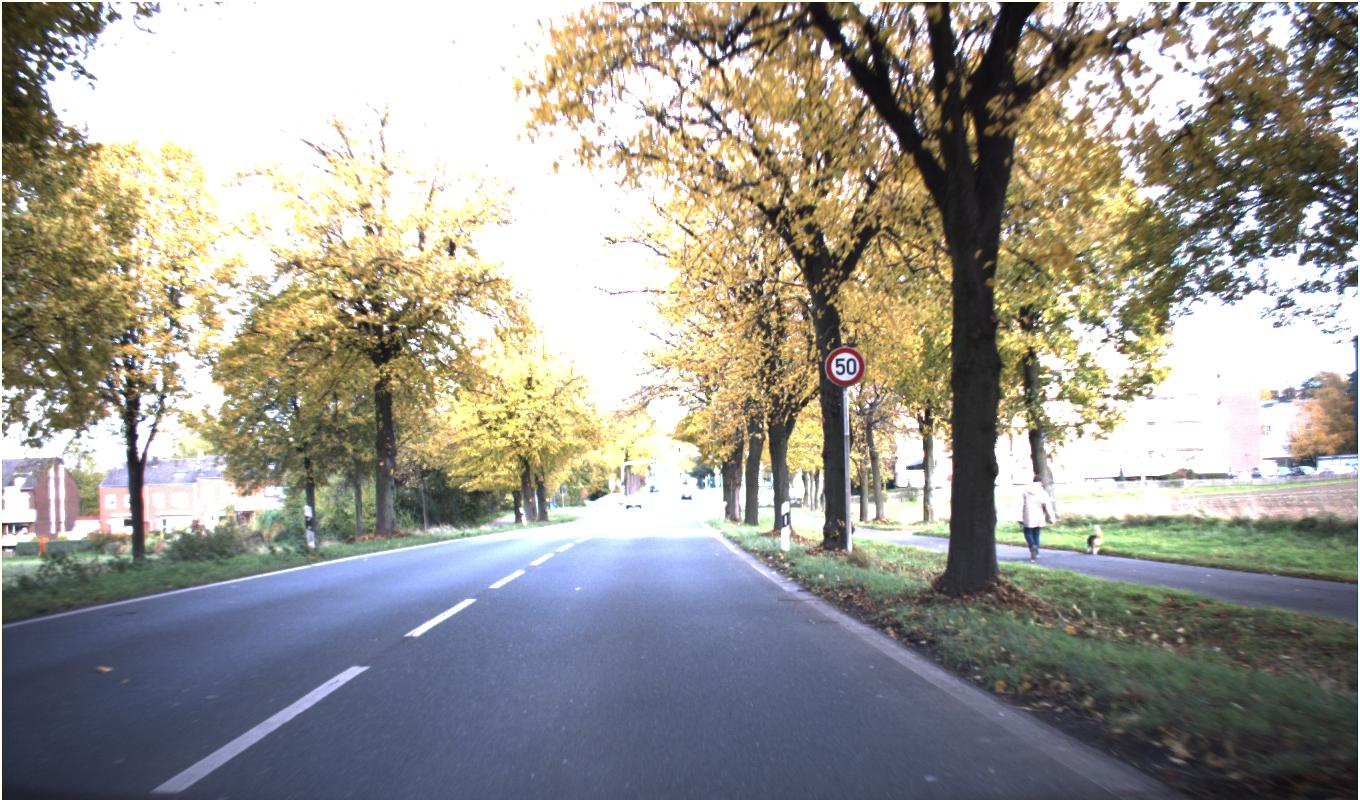prohibitory: (824, 345, 865, 386)
